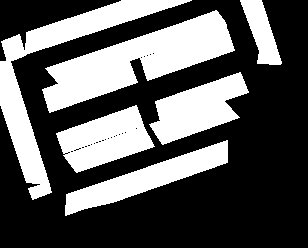parkingspot: (45, 10, 226, 83), (65, 140, 227, 215), (25, 0, 191, 54), (0, 61, 49, 184), (42, 59, 137, 112), (140, 29, 234, 80), (155, 72, 248, 121), (63, 126, 154, 172), (56, 105, 143, 153), (149, 100, 239, 144), (240, 0, 281, 64), (1, 34, 25, 62), (28, 182, 51, 199)
